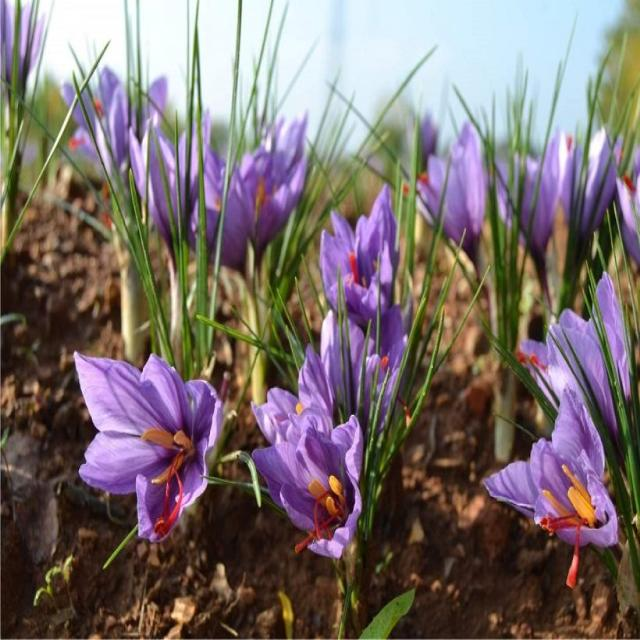saffron open: (75, 353, 222, 542), (485, 387, 618, 587), (254, 411, 362, 558), (320, 184, 396, 325), (418, 122, 486, 268), (252, 346, 332, 444), (339, 298, 380, 442)
